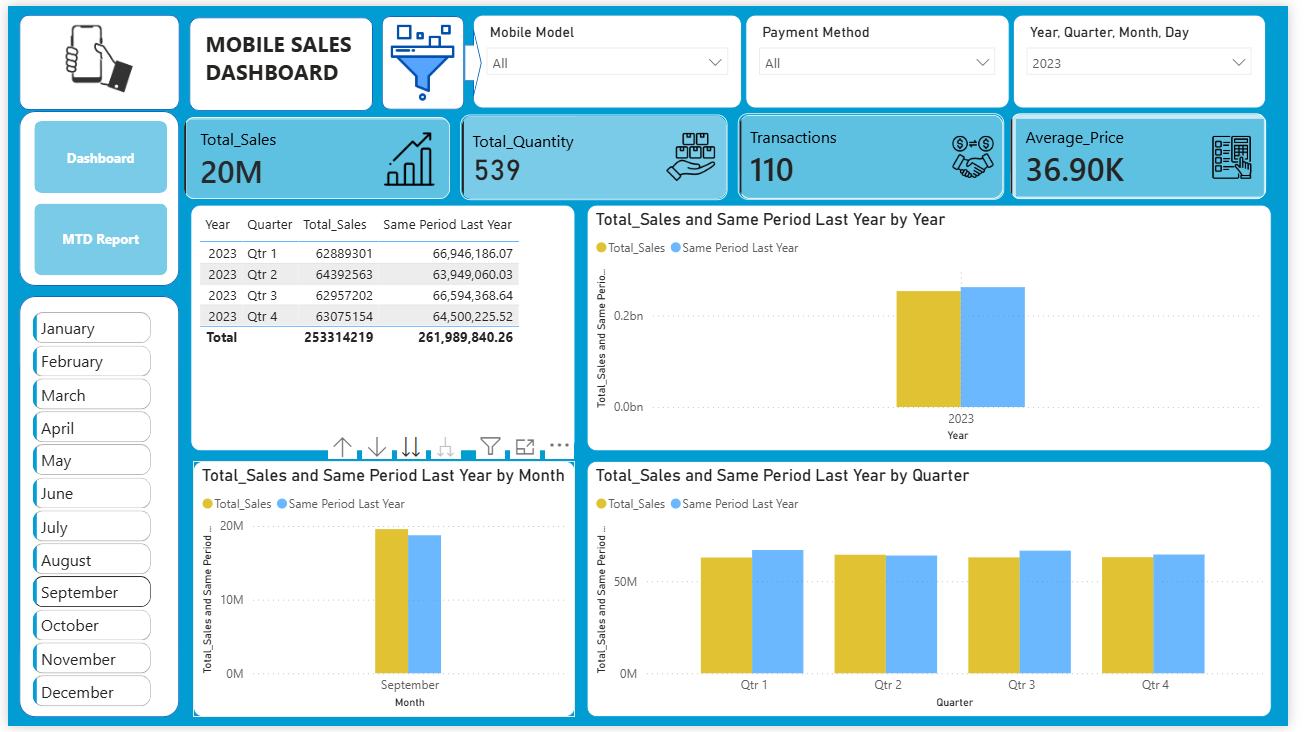

This screenshot's page, from the dashboard's own definition file:
{"tool":"powerbi","page":{"name":"Same Period Last Year","canvas":[1280,720],"ordinal":2},"visuals":[{"type":"shape","box":[10.9,8.4,160.5,95.3],"z":0},{"type":"image","box":[29,9.7,125.5,85.7],"z":1000},{"type":"shape","box":[11.2,105,160,175],"z":2000},{"type":"cardVisual","fields":{"Data":["Sales_Data.Total_Sales"]},"box":[171.2,106.2,276.2,92.5],"z":3000},{"type":"cardVisual","fields":{"Data":["Sales_Data.Total_Quantity"]},"box":[447.5,103.8,277.5,95],"z":4000},{"type":"cardVisual","fields":{"Data":["Sales_Data.Transactions"]},"box":[725,102.5,276.2,96.2],"z":5000},{"type":"cardVisual","fields":{"Data":["Sales_Data.Average_Price"]},"box":[997.5,102.5,266.2,96.2],"z":6000},{"type":"slicer","fields":{"Values":["Sales_Data.Mobile Model"]},"box":[465,8.8,268.8,93.8],"z":7000},{"type":"slicer","fields":{"Values":["Sales_Data.Payment Method"]},"box":[737.5,8.8,263.8,93.8],"z":8000},{"type":"slicer","fields":{"Values":["Custom_Calender.Date.Variation.Date Hierarchy.Year","Custom_Calender.Date.Variation.Date Hierarchy.Quarter","Custom_Calender.Date.Variation.Date Hierarchy.Month","Custom_Calender.Date.Variation.Date Hierarchy.Day"]},"box":[1005,8.8,252.5,93.8],"z":9000},{"type":"shape","box":[373.8,10,82.5,93.8],"z":10000},{"type":"image","box":[374,18.1,82,78.4],"z":11000},{"type":"shape","box":[11.2,290,160,421.2],"z":11500},{"type":"shape","box":[456.2,20,17.5,73.8],"z":12000},{"type":"shape","box":[181.2,11.2,183.8,93.8],"z":13000},{"type":"listSlicer","fields":{"Values":["Custom_Calender.Date.Variation.Date Hierarchy.Month"]},"box":[20,301.2,141.2,410],"z":13500},{"type":"textbox","box":[193,18.1,160.5,78.4],"z":14000},{"type":"tableEx","fields":{"Values":["Custom_Calender.Date.Variation.Date Hierarchy.Year","Custom_Calender.Date.Variation.Date Hierarchy.Quarter","Sales_Data.Total_Sales","Sales_Data.Same Period Last Year"]},"box":[182.5,198.8,385,246.2],"z":16000},{"type":"clusteredColumnChart","fields":{"Category":["Custom_Calender.Date.Variation.Date Hierarchy.Year","Custom_Calender.Date.Variation.Date Hierarchy.Quarter"],"Y":["Sales_Data.Total_Sales","Sales_Data.Same Period Last Year"]},"box":[578.8,198.8,685,246.2],"z":17000},{"type":"clusteredColumnChart","fields":{"Category":["Custom_Calender.Date.Variation.Date Hierarchy.Year","Custom_Calender.Date.Variation.Date Hierarchy.Quarter","Custom_Calender.Date.Variation.Date Hierarchy.Month","Custom_Calender.Date.Variation.Date Hierarchy.Day"],"Y":["Sales_Data.Total_Sales","Sales_Data.Same Period Last Year"]},"box":[185,455,382.5,256.2],"z":18000},{"type":"clusteredColumnChart","fields":{"Category":["Custom_Calender.Date.Variation.Date Hierarchy.Year","Custom_Calender.Date.Variation.Date Hierarchy.Quarter"],"Y":["Sales_Data.Total_Sales","Sales_Data.Same Period Last Year"]},"box":[578.8,455,685,256.2],"z":19000},{"type":"pageNavigator","box":[26.2,115,133.8,155],"z":19001}]}

Visuals, with their boxes in screenshot pixels (x1, y1, x2, y2), scaled from the page's 1280x720 canvas onto the 1307x732 screenshot:
shape: pyautogui.locateOnScreen(11, 9, 175, 105)
image: pyautogui.locateOnScreen(30, 10, 158, 97)
shape: pyautogui.locateOnScreen(11, 107, 175, 285)
cardVisual - Sales_Data.Total_Sales: pyautogui.locateOnScreen(175, 108, 457, 202)
cardVisual - Sales_Data.Total_Quantity: pyautogui.locateOnScreen(457, 106, 740, 202)
cardVisual - Sales_Data.Transactions: pyautogui.locateOnScreen(740, 104, 1022, 202)
cardVisual - Sales_Data.Average_Price: pyautogui.locateOnScreen(1019, 104, 1290, 202)
slicer - Sales_Data.Mobile Model: pyautogui.locateOnScreen(475, 9, 749, 104)
slicer - Sales_Data.Payment Method: pyautogui.locateOnScreen(753, 9, 1022, 104)
slicer - Custom_Calender.Date.Variation.Date Hierarchy.Year x Custom_Calender.Date.Variation.Date Hierarchy.Quarter: pyautogui.locateOnScreen(1026, 9, 1284, 104)
shape: pyautogui.locateOnScreen(382, 10, 466, 106)
image: pyautogui.locateOnScreen(382, 18, 466, 98)
shape: pyautogui.locateOnScreen(11, 295, 175, 723)
shape: pyautogui.locateOnScreen(466, 20, 484, 95)
shape: pyautogui.locateOnScreen(185, 11, 373, 107)
listSlicer - Custom_Calender.Date.Variation.Date Hierarchy.Month: pyautogui.locateOnScreen(20, 306, 165, 723)
textbox: pyautogui.locateOnScreen(197, 18, 361, 98)
tableEx - Custom_Calender.Date.Variation.Date Hierarchy.Year x Custom_Calender.Date.Variation.Date Hierarchy.Quarter: pyautogui.locateOnScreen(186, 202, 579, 452)
clusteredColumnChart - Custom_Calender.Date.Variation.Date Hierarchy.Year x Custom_Calender.Date.Variation.Date Hierarchy.Quarter: pyautogui.locateOnScreen(591, 202, 1290, 452)
clusteredColumnChart - Custom_Calender.Date.Variation.Date Hierarchy.Year x Custom_Calender.Date.Variation.Date Hierarchy.Quarter: pyautogui.locateOnScreen(189, 463, 579, 723)
clusteredColumnChart - Custom_Calender.Date.Variation.Date Hierarchy.Year x Custom_Calender.Date.Variation.Date Hierarchy.Quarter: pyautogui.locateOnScreen(591, 463, 1290, 723)
pageNavigator: pyautogui.locateOnScreen(27, 117, 163, 274)
